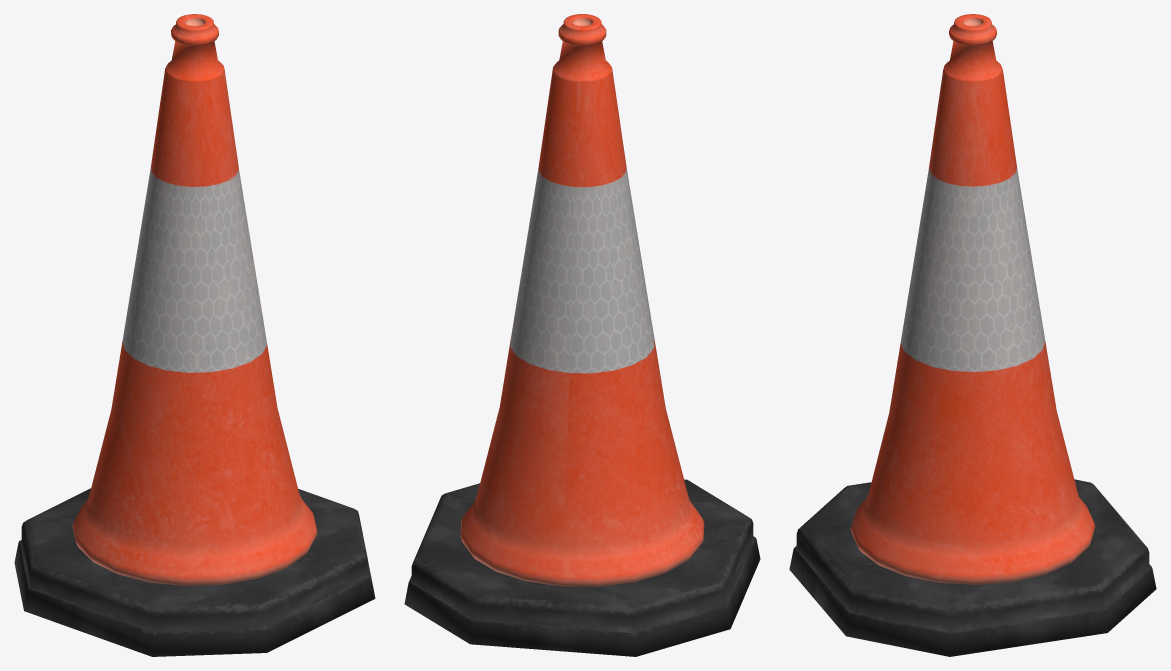
The picture shows the model from 3 angles, left to right: view 1: azimuth 30°, elevation 25°; view 2: azimuth 150°, elevation 25°; view 3: azimuth 270°, elevation 25°; orthographic projection.
Visible parts, largest first — view 1: Cone; view 2: Cone; view 3: Cone.
Boxes of the visible parts, bbox=[...] form: Cone: bbox=[14, 14, 375, 656]; Cone: bbox=[404, 14, 760, 656]; Cone: bbox=[789, 14, 1156, 656].
Bounding box in the file's own units: 0.983 × 1.65 × 0.983.
2 materials, 2 textured.
